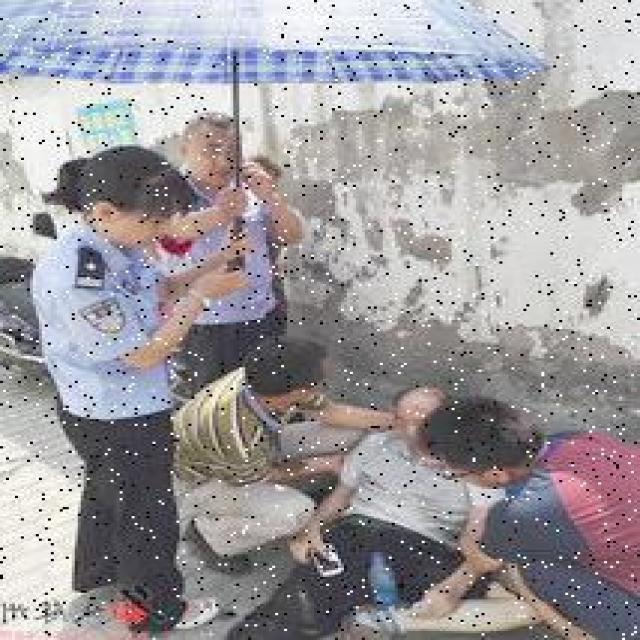fall: (318, 386, 470, 638)
